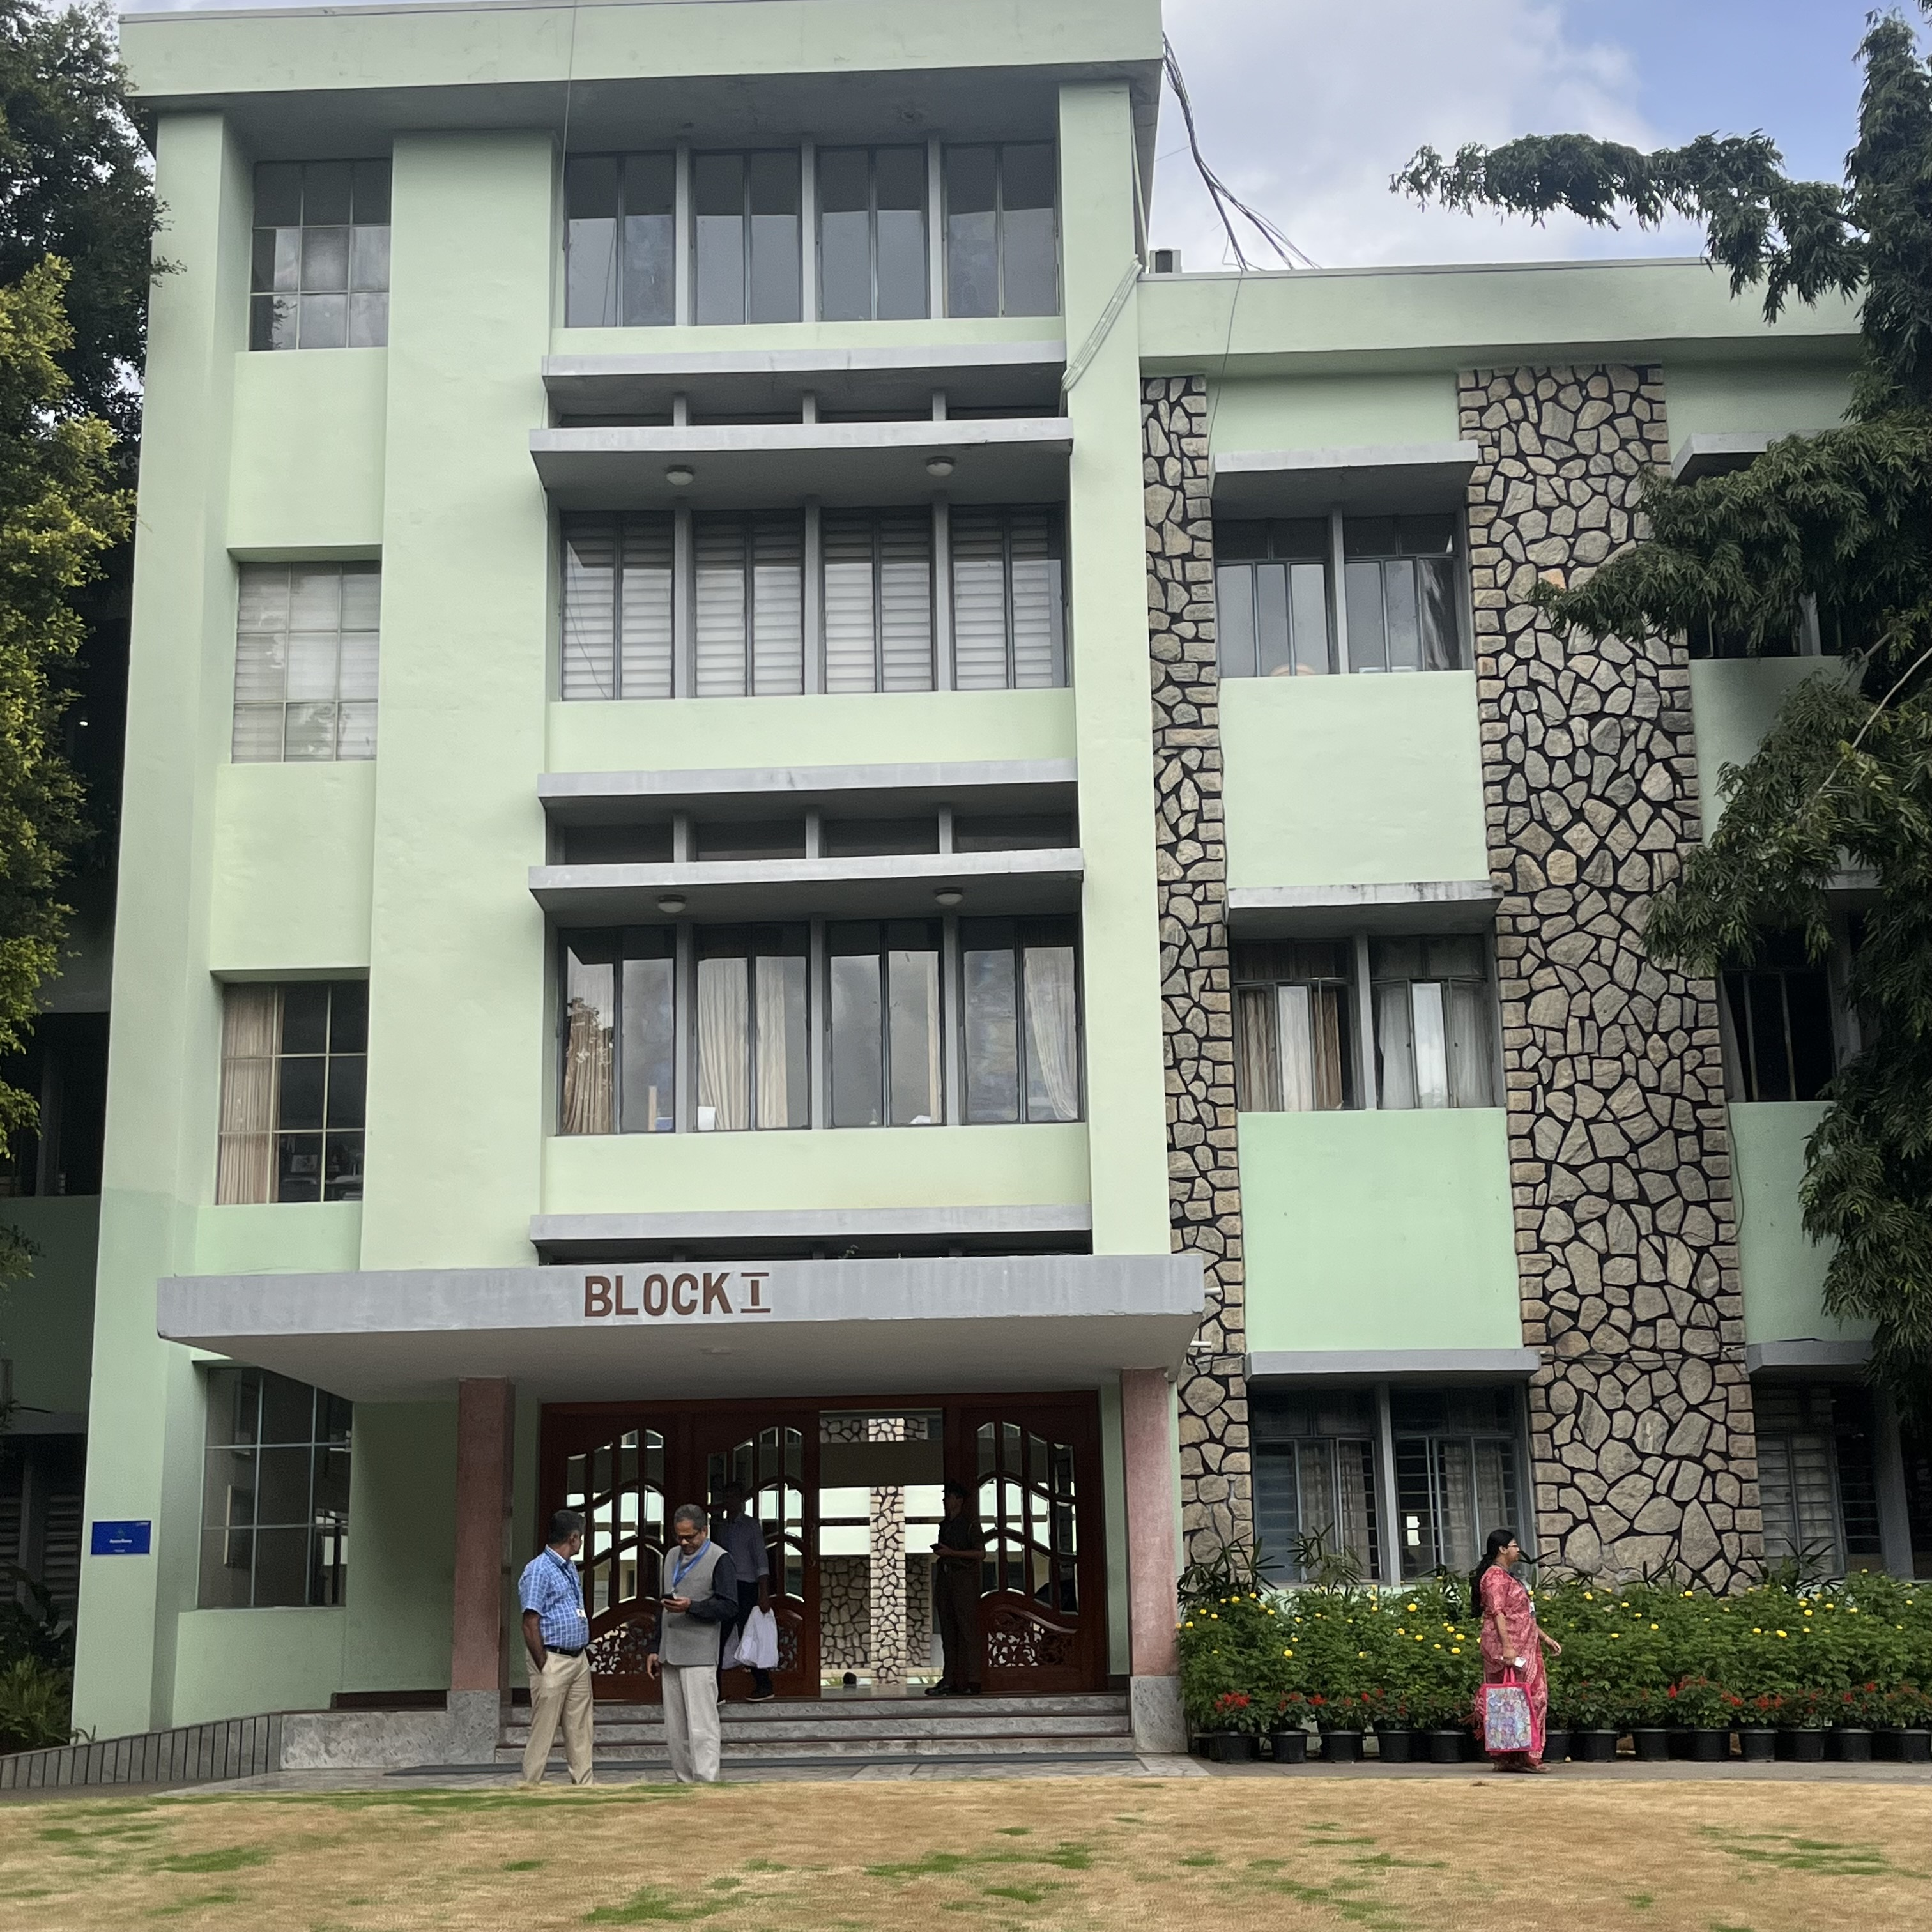Block 1: (101, 9, 1879, 1578)
